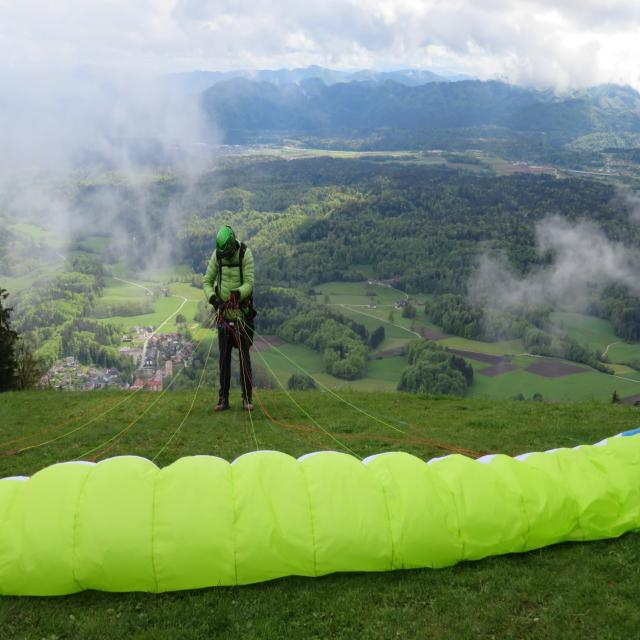paraglider: (1, 426, 638, 597)
